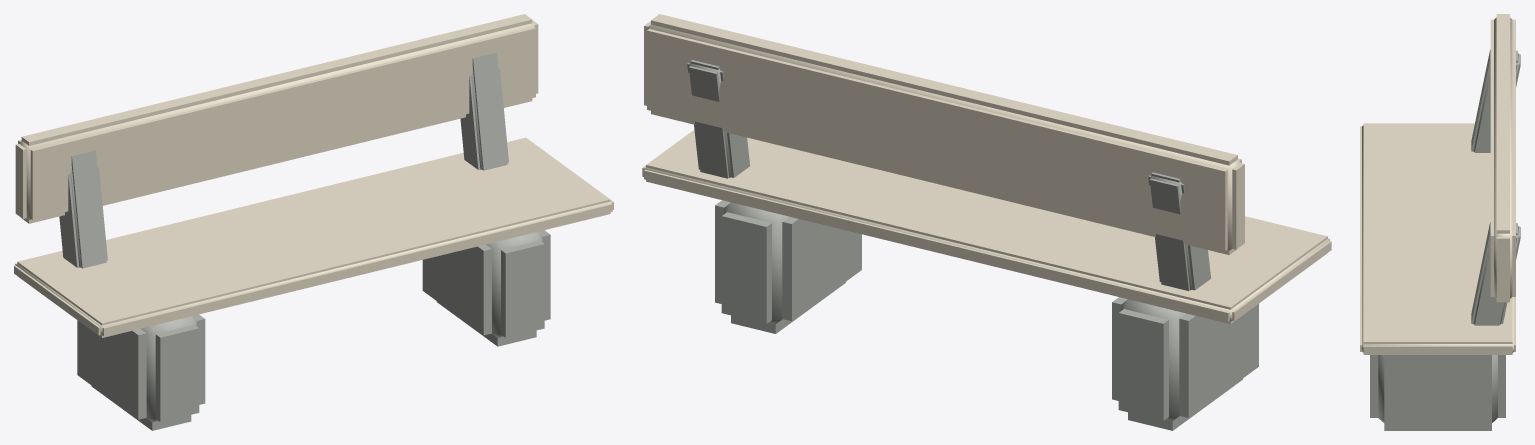
Rendered from StoneBenchBack.glb.
3 views of the same model, side by side, from view 1: azimuth 30°, elevation 25°; view 2: azimuth 150°, elevation 25°; view 3: azimuth 270°, elevation 25° (orthographic). The views are drawn at different scales.
Visible parts, largest first — view 1: ST_StoneBenchBack_ST_cream.001, ST_StoneBenchBack_ST_stone.001; view 2: ST_StoneBenchBack_ST_cream.001, ST_StoneBenchBack_ST_stone.001; view 3: ST_StoneBenchBack_ST_cream.001, ST_StoneBenchBack_ST_stone.001.
Boxes of the visible parts, <box> form: ST_StoneBenchBack_ST_cream.001: <box>14,14,613,337</box>; ST_StoneBenchBack_ST_stone.001: <box>59,52,550,430</box>; ST_StoneBenchBack_ST_cream.001: <box>642,14,1331,324</box>; ST_StoneBenchBack_ST_stone.001: <box>687,60,1258,430</box>; ST_StoneBenchBack_ST_cream.001: <box>1360,14,1515,354</box>; ST_StoneBenchBack_ST_stone.001: <box>1370,49,1520,430</box>.
Size of the model in its own units: 1.85 by 0.88 by 0.5669.
